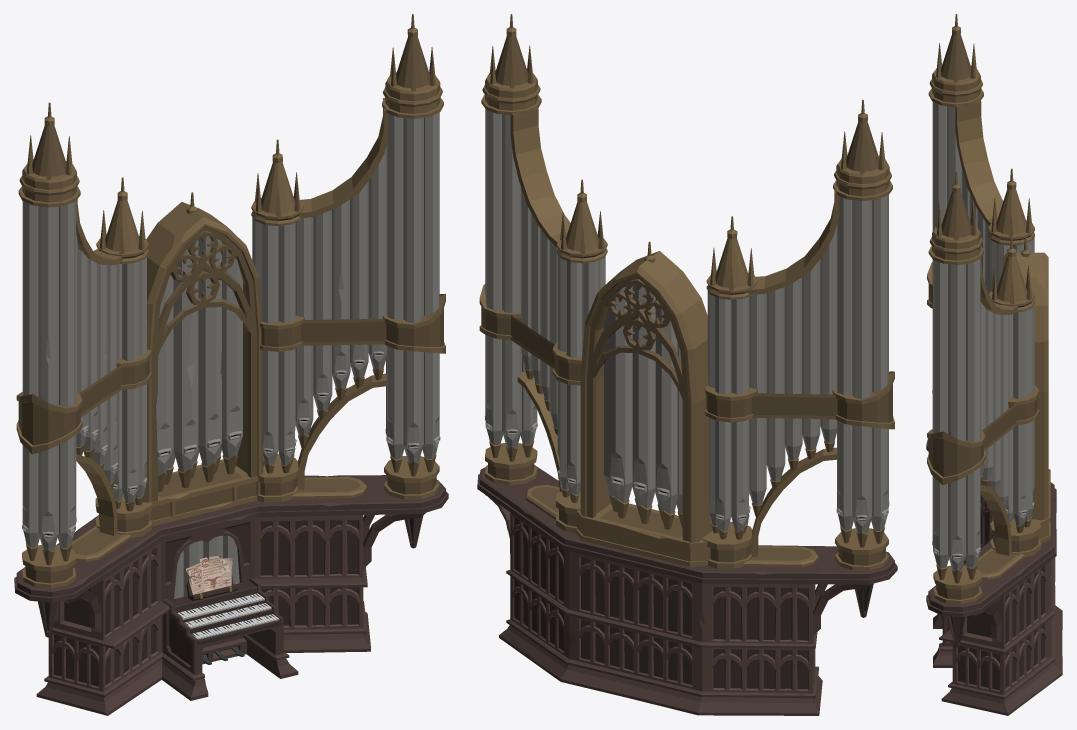
The model's file is crypt_organ.gltf.
The picture shows the model from 3 angles, left to right: view 1: azimuth 30°, elevation 25°; view 2: azimuth 150°, elevation 25°; view 3: azimuth 270°, elevation 25°; orthographic projection. The views are drawn at different scales.
Visible parts, largest first — view 1: crypt_organ; view 2: crypt_organ; view 3: crypt_organ.
Boxes of the visible parts, x1,y1,x2,y2 form: crypt_organ: [14, 14, 448, 715]; crypt_organ: [477, 14, 897, 715]; crypt_organ: [926, 14, 1062, 715].
Size of the model in its own units: 4.35 by 6.06 by 1.36.
Materials: 1 (1 with a texture image).
